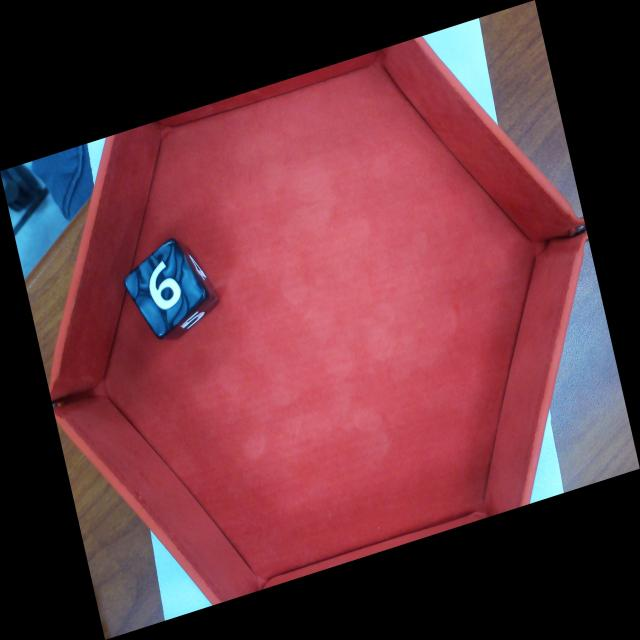dice: (127, 240, 206, 337)
